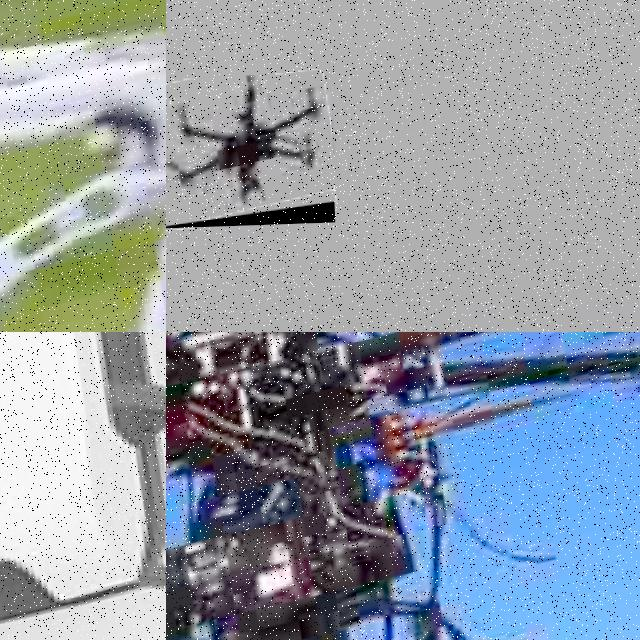drone: (166, 332, 640, 640), (0, 0, 166, 332), (0, 332, 166, 640), (166, 72, 335, 229)
